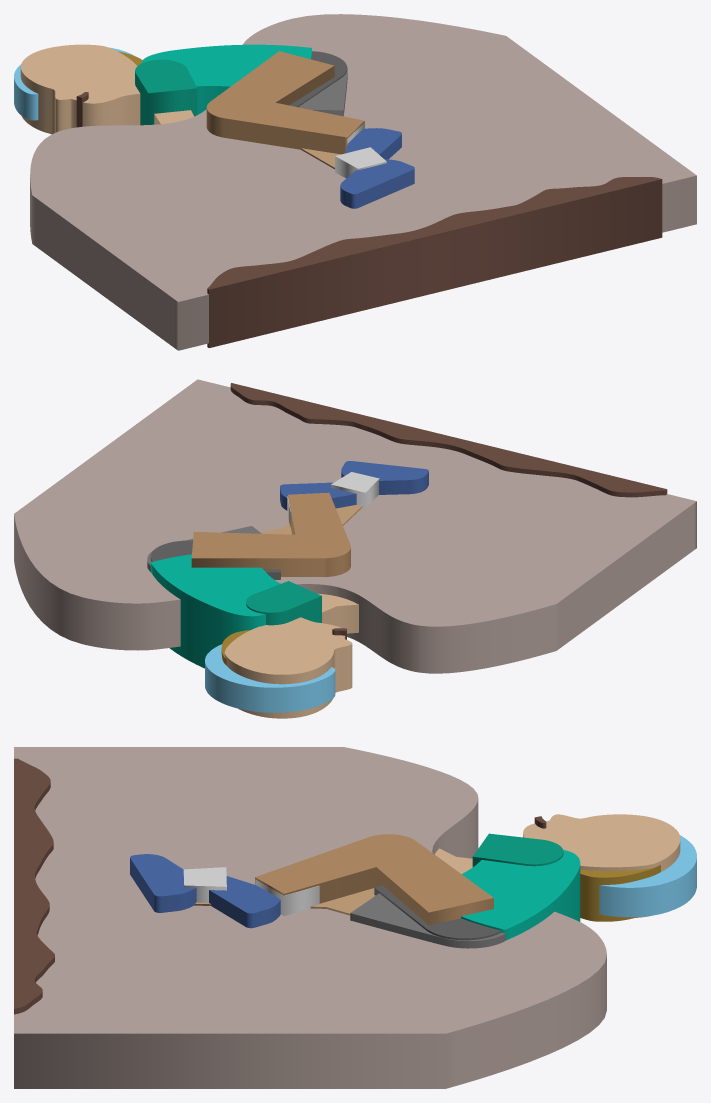
The model's file is emoji_u1f6b5_1f3fc_200d_2642.glb.
The picture shows the model from 3 angles, top to bottom: view 1: azimuth 30°, elevation 25°; view 2: azimuth 150°, elevation 25°; view 3: azimuth 270°, elevation 25°; orthographic projection. The views are drawn at different scales.
Visible parts, largest first — view 1: emoji_u1f6b5_1f3fc_200d_2642; view 2: emoji_u1f6b5_1f3fc_200d_2642; view 3: emoji_u1f6b5_1f3fc_200d_2642.
Part boxes in pixels (x1=…): emoji_u1f6b5_1f3fc_200d_2642: x1=14, y1=14, x2=696, y2=350; emoji_u1f6b5_1f3fc_200d_2642: x1=14, y1=379, x2=696, y2=718; emoji_u1f6b5_1f3fc_200d_2642: x1=14, y1=747, x2=696, y2=1088.
Size of the model in its own units: 0.0334 by 0.0054 by 0.0336.
